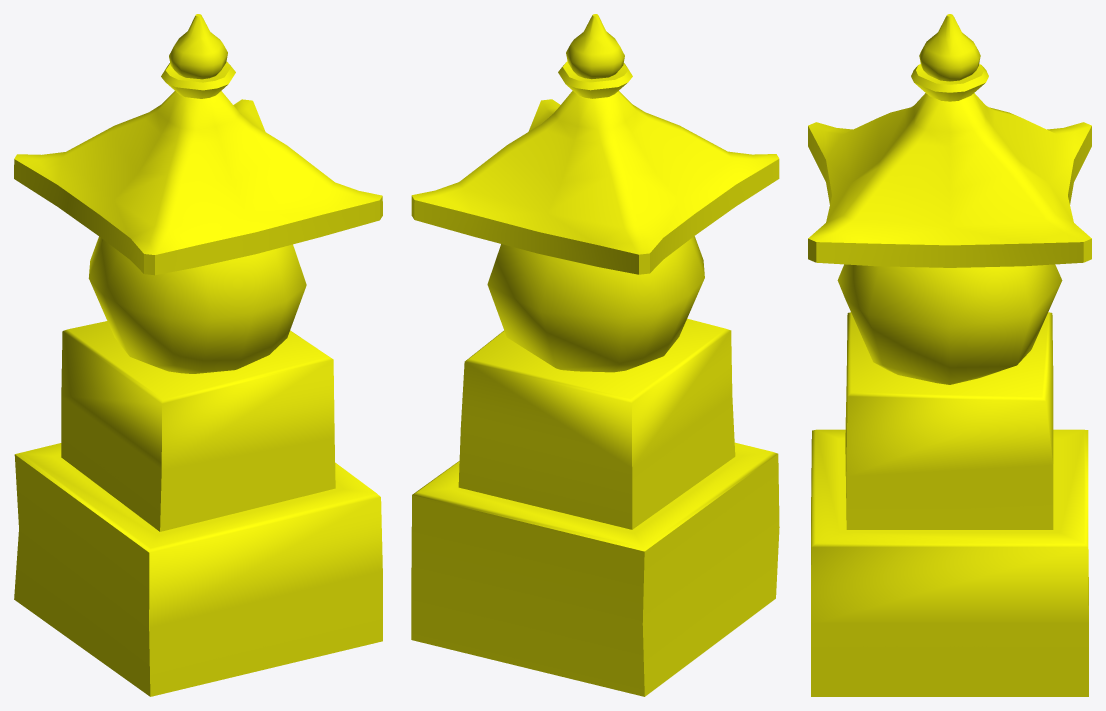
File: Props_Sculptures_Sculpture1LP.glb
3 views of the same model, side by side, from view 1: azimuth 30°, elevation 25°; view 2: azimuth 150°, elevation 25°; view 3: azimuth 270°, elevation 25° (orthographic). The views are drawn at different scales.
Parts seen in each view (by area): view 1: Base.005; view 2: Base.005; view 3: Base.005.
Boxes of the visible parts, left/top/right/bottom form: Base.005: left=14, top=14, right=382, bottom=696; Base.005: left=411, top=14, right=779, bottom=696; Base.005: left=808, top=14, right=1091, bottom=696.
Size of the model in its own units: 1.95 by 4.72 by 1.95.
Materials: 1 (1 with a texture image).
